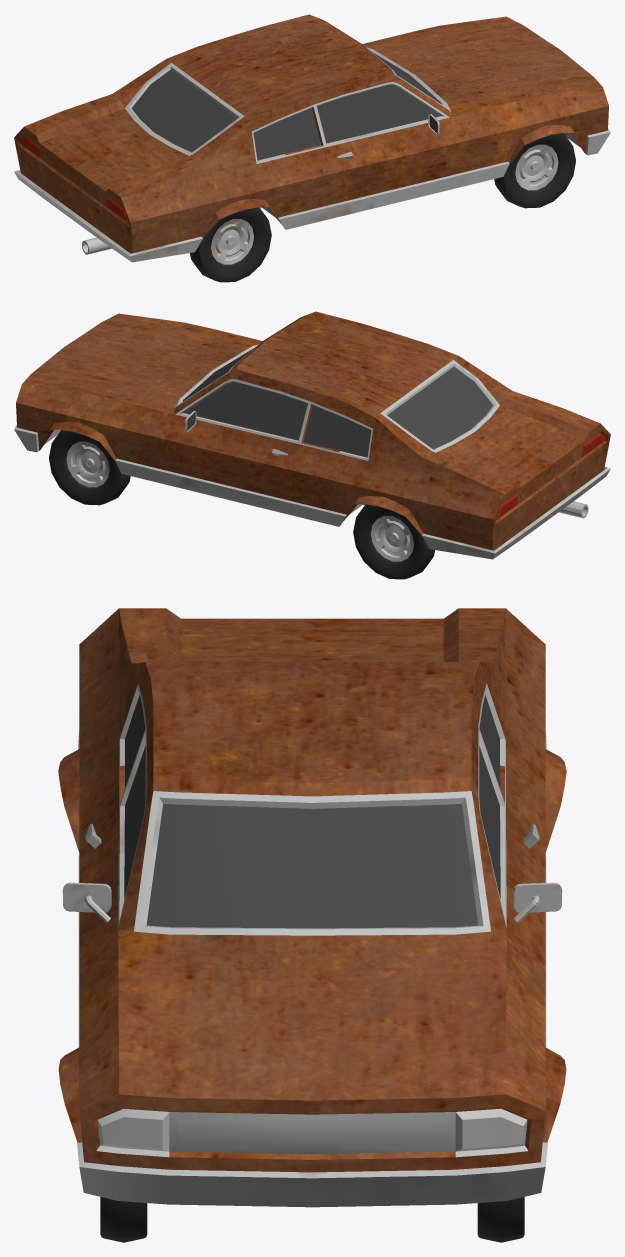
The picture shows the model from 3 angles, top to bottom: view 1: azimuth 30°, elevation 25°; view 2: azimuth 150°, elevation 25°; view 3: azimuth 270°, elevation 25°; orthographic projection. The views are drawn at different scales.
Parts seen in each view (by area): view 1: Body, Bumpers, Back_tires, Front_tires; view 2: Body, Bumpers, Back_tires, Front_tires; view 3: Body, Bumpers, Front_tires, Mirrors.
Boxes of the visible parts, bbox=[...] form: Body: bbox=[14, 14, 608, 253]; Bumpers: bbox=[14, 128, 610, 262]; Back_tires: bbox=[190, 207, 271, 282]; Front_tires: bbox=[494, 133, 575, 208]; Body: bbox=[16, 311, 610, 550]; Bumpers: bbox=[14, 425, 610, 559]; Back_tires: bbox=[353, 504, 434, 579]; Front_tires: bbox=[49, 430, 130, 505]; Body: bbox=[58, 608, 566, 1172]; Bumpers: bbox=[77, 731, 547, 1207]; Front_tires: bbox=[100, 1197, 524, 1242]; Mirrors: bbox=[62, 882, 562, 922].
Size of the model in its own units: 321 by 98.81 by 141.
Materials: 6 (3 with a texture image).
